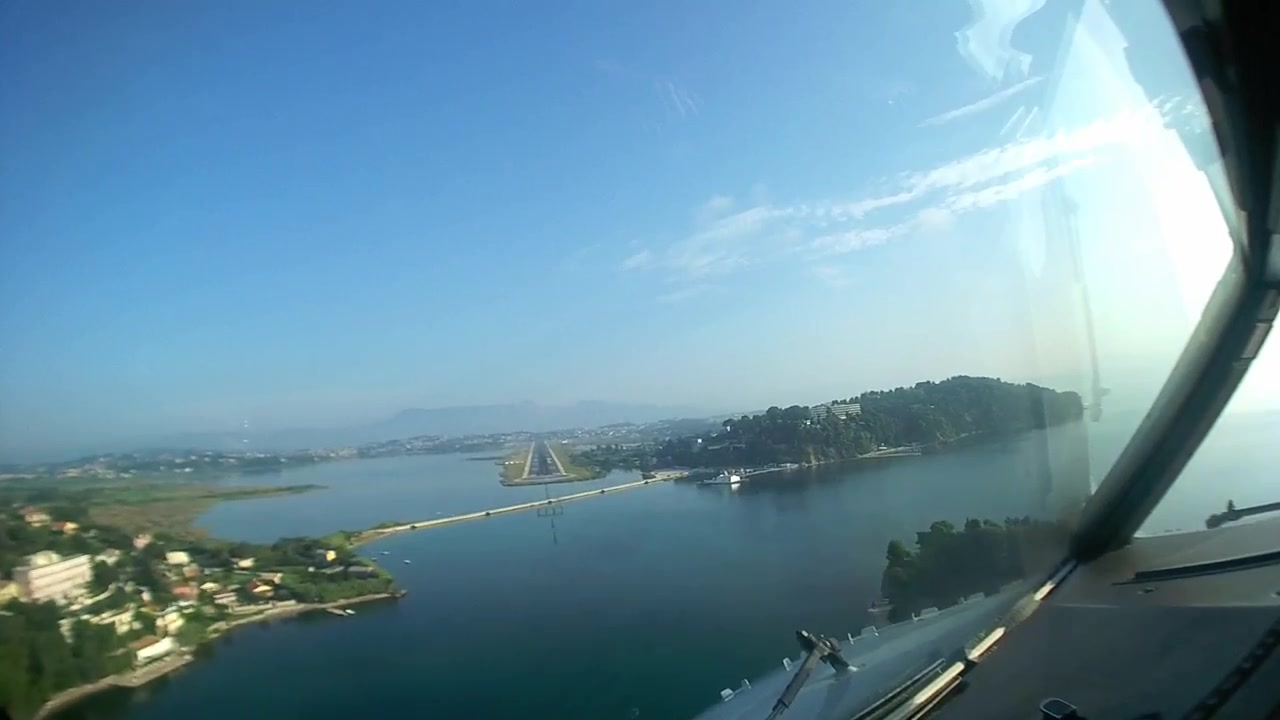runway: (523, 440, 568, 480)
